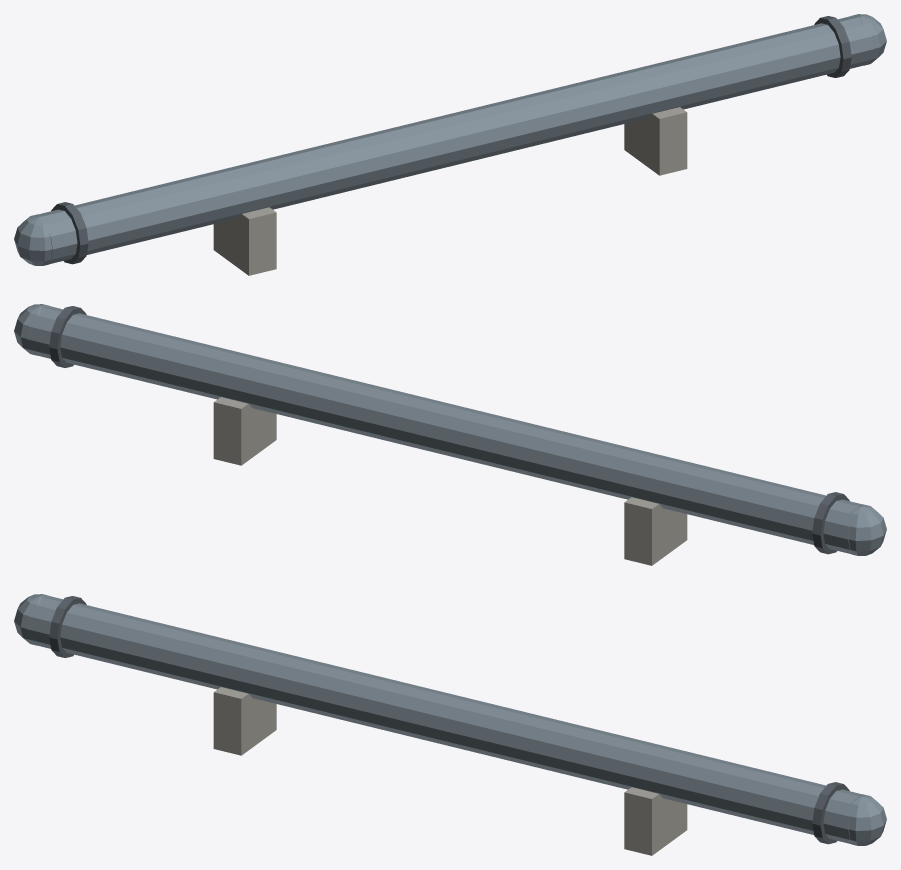
File: potrubi_rovne.glb
The picture shows the model from 3 angles, top to bottom: view 1: azimuth 30°, elevation 25°; view 2: azimuth 150°, elevation 25°; view 3: azimuth 330°, elevation 25°; orthographic projection.
Parts seen in each view (by area): view 1: potrubi_rovne; view 2: potrubi_rovne; view 3: potrubi_rovne.
Boxes of the visible parts, x1=… form: potrubi_rovne: x1=14, y1=14, x2=886, y2=275; potrubi_rovne: x1=14, y1=304, x2=886, y2=565; potrubi_rovne: x1=14, y1=594, x2=886, y2=855.
Size of the model in its own units: 15.65 by 1.69 by 1.1.
1 material, 1 textured.
